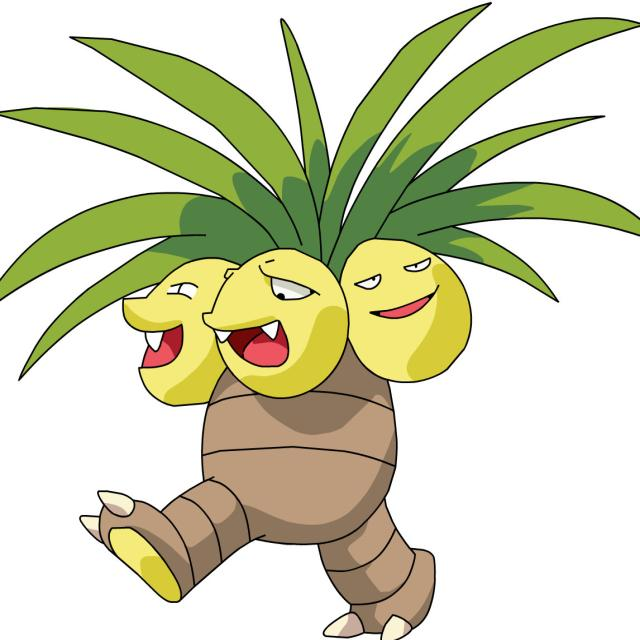Exeggutor: (102, 107, 479, 634)
